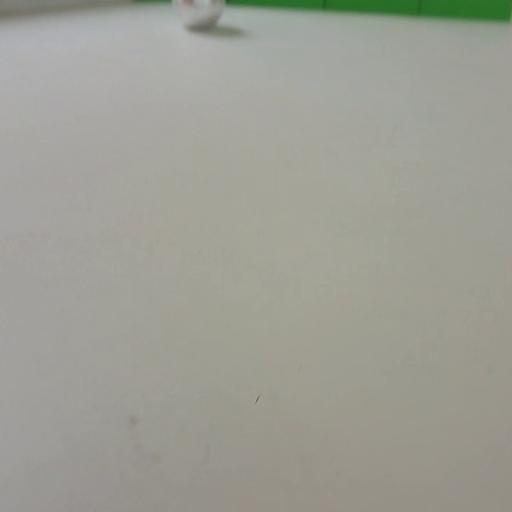alive: (174, 0, 226, 32)
